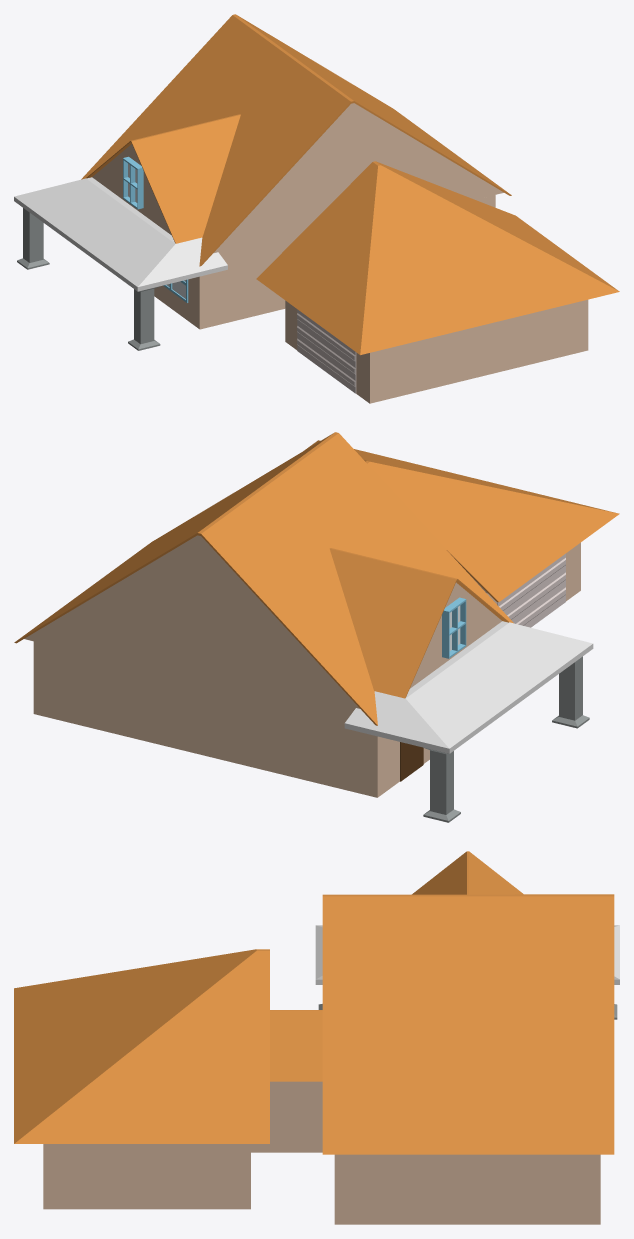
The model's file is house.glb.
The picture shows the model from 3 angles, top to bottom: view 1: azimuth 30°, elevation 25°; view 2: azimuth 150°, elevation 25°; view 3: azimuth 270°, elevation 25°; orthographic projection. The views are drawn at different scales.
Parts seen in each view (by area): view 1: Ceiling, Walls, Cover, Garage Door, Cover Pillars, Window Ceiling; view 2: Ceiling, Walls, Cover, Cover Pillars, Garage Door, Window Ceiling, Door; view 3: Ceiling, Walls, Cover.
Boxes of the visible parts, <box> form: Ceiling: <box>81,14,619,355</box>; Walls: <box>154,195,588,403</box>; Cover: <box>14,177,227,291</box>; Garage Door: <box>297,309,356,393</box>; Cover Pillars: <box>17,208,160,350</box>; Window Ceiling: <box>123,156,143,209</box>; Ceiling: <box>14,432,619,725</box>; Walls: <box>33,542,580,797</box>; Cover: <box>344,621,593,753</box>; Cover Pillars: <box>423,656,589,822</box>; Garage Door: <box>497,553,565,627</box>; Window Ceiling: <box>442,597,466,658</box>; Door: <box>400,742,423,781</box>; Ceiling: <box>14,851,614,1154</box>; Walls: <box>43,1081,600,1224</box>; Cover: <box>315,925,619,984</box>.
Size of the model in its own units: 45.54 by 22.59 by 51.54.
